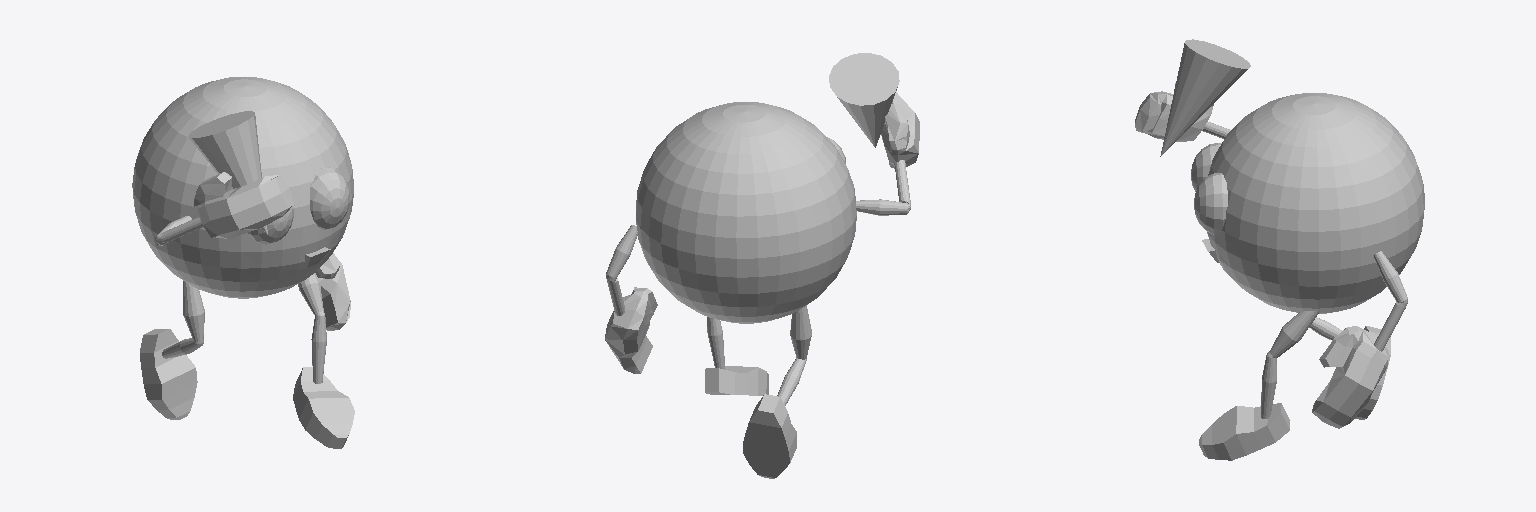
The model's file is runToStand_000036.obj.
3 views of the same model, side by side, from view 1: azimuth 30°, elevation 25°; view 2: azimuth 150°, elevation 25°; view 3: azimuth 270°, elevation 25° (orthographic).
Visible parts, largest first — view 1: Rusko_Sphere; view 2: Rusko_Sphere; view 3: Rusko_Sphere.
Boxes of the visible parts, <box> form: Rusko_Sphere: <box>132,77,354,448</box>; Rusko_Sphere: <box>605,53,919,478</box>; Rusko_Sphere: <box>1135,39,1424,460</box>.
Bounding box in the file's own units: 5.03 × 7.26 × 5.23.